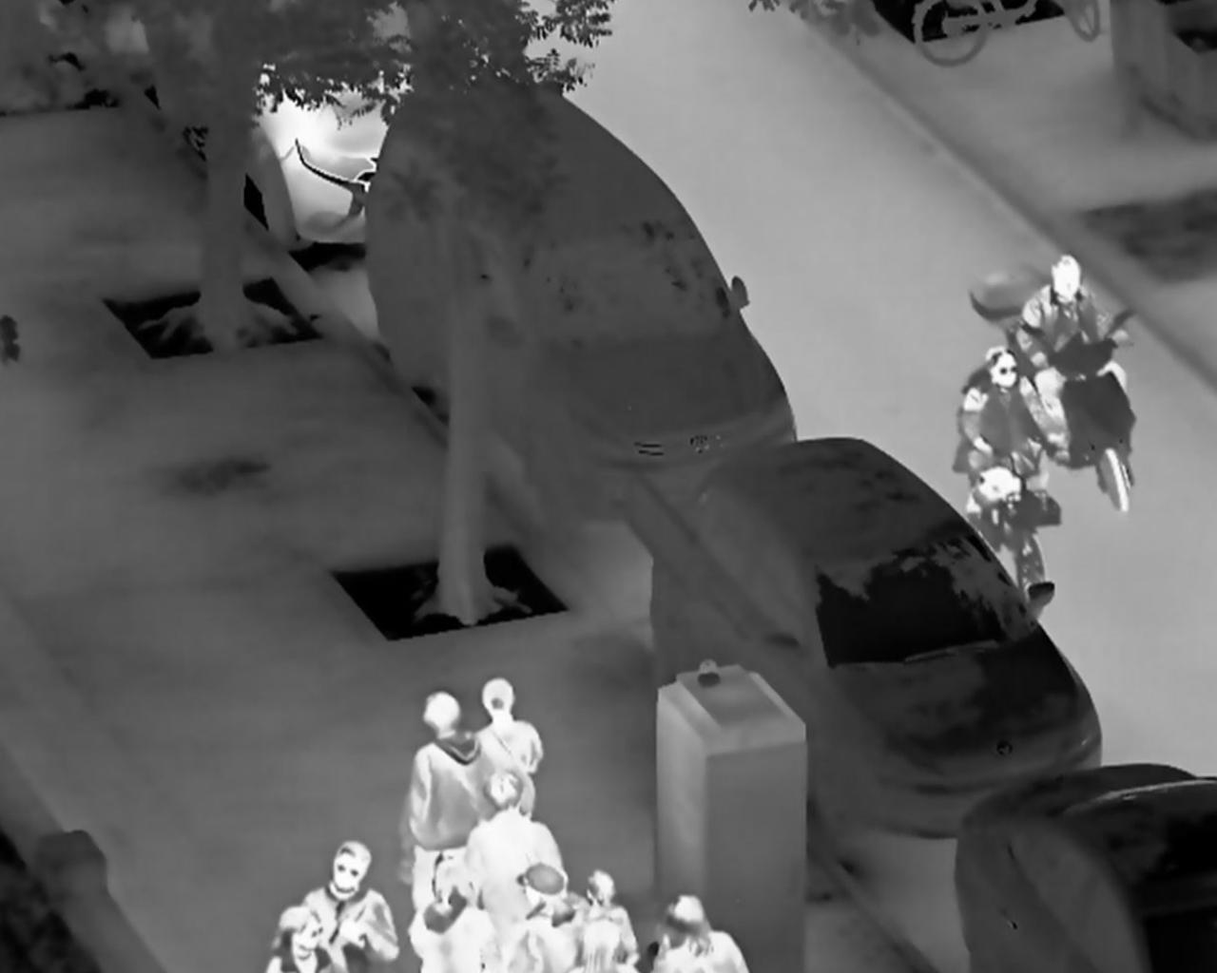person: (1013, 253, 1131, 461), (956, 341, 1069, 541), (403, 689, 494, 908), (457, 776, 572, 920), (295, 830, 397, 968), (410, 859, 512, 972), (471, 671, 546, 819), (651, 882, 750, 973), (508, 852, 578, 973), (572, 859, 634, 973)
